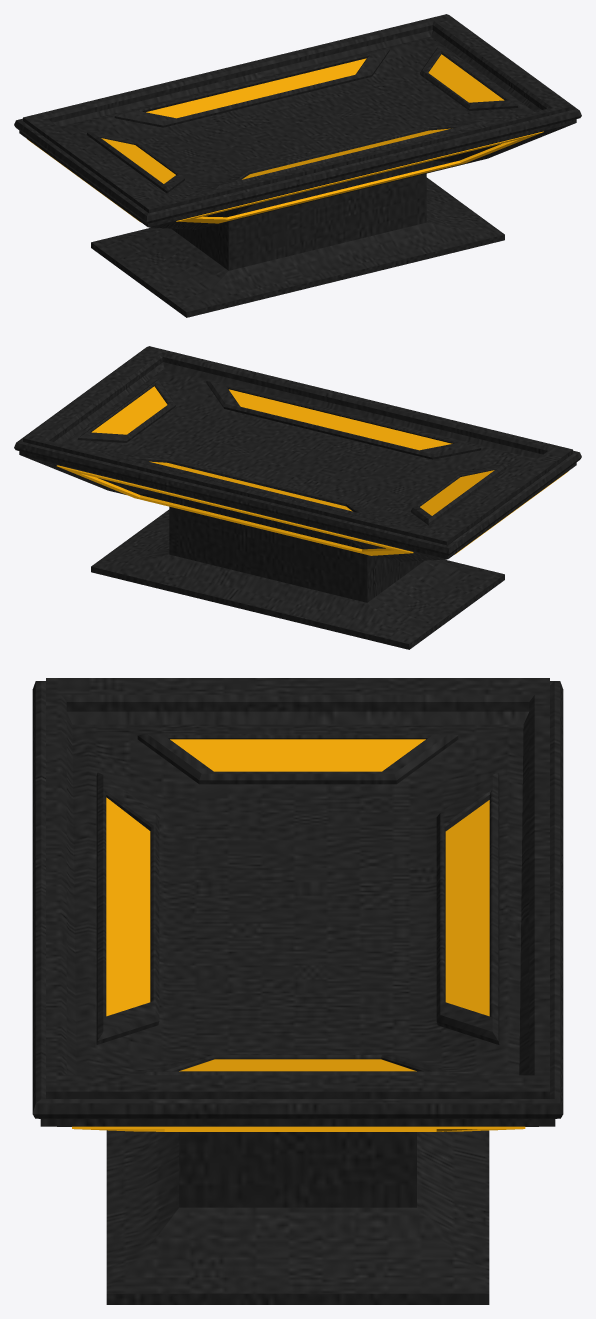
The model's file is FUR0310014.fbx.
3 renders of one model, top to bottom at view 1: azimuth 30°, elevation 25°; view 2: azimuth 150°, elevation 25°; view 3: azimuth 270°, elevation 25°, orthographic. The views are drawn at different scales.
Parts seen in each view (by area): view 1: smFUR0310014; view 2: smFUR0310014; view 3: smFUR0310014.
Part boxes in pixels (x1,y1,x2,y2): smFUR0310014: (14,14,581,317); smFUR0310014: (14,346,581,649); smFUR0310014: (32,678,563,1304).
Bounding box in the file's own units: 366 × 106 × 193.
Materials: 1 (1 with a texture image).
